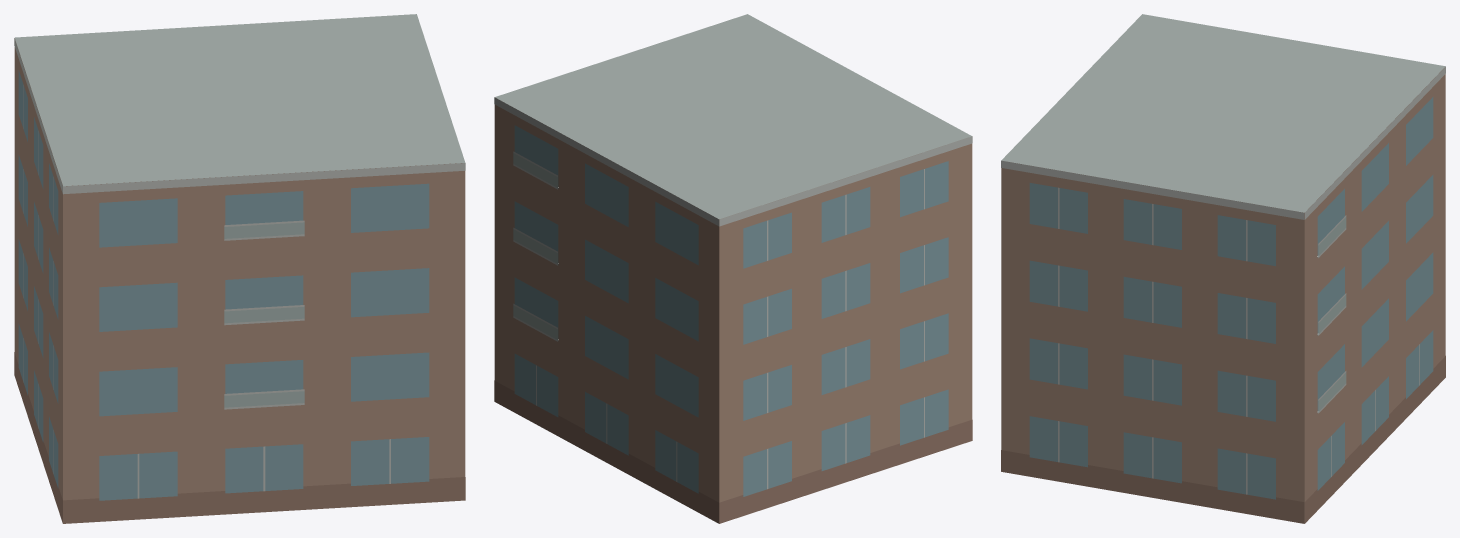
The model's file is survey-upis-32489247.glb.
The picture shows the model from 3 angles, left to right: view 1: azimuth 30°, elevation 25°; view 2: azimuth 150°, elevation 25°; view 3: azimuth 270°, elevation 25°; orthographic projection. The views are drawn at different scales.
Parts seen in each view (by area): view 1: survey-upis-32489247.tmp; view 2: survey-upis-32489247.tmp; view 3: survey-upis-32489247.tmp.
Boxes of the visible parts, x1,y1,x2,y2 form: survey-upis-32489247.tmp: (14,14,465,523); survey-upis-32489247.tmp: (494,14,972,523); survey-upis-32489247.tmp: (1001,14,1445,523).
Bounding box in the file's own units: 14.25 × 10.4 × 13.48.
